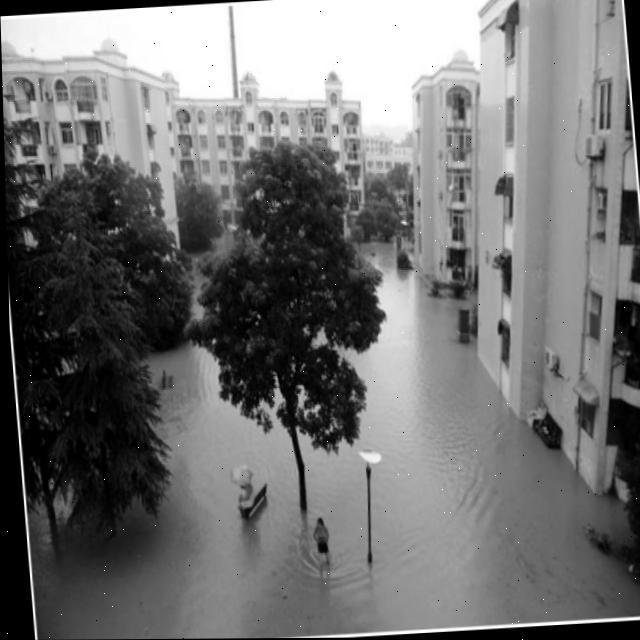civilian: (297, 505, 349, 582), (233, 482, 258, 519)
